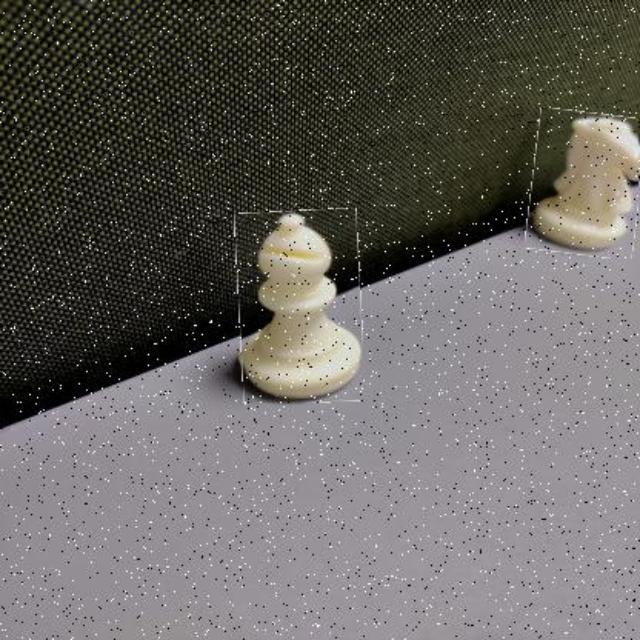white-bishop: (236, 210, 362, 403)
white-knight: (528, 110, 638, 259)
